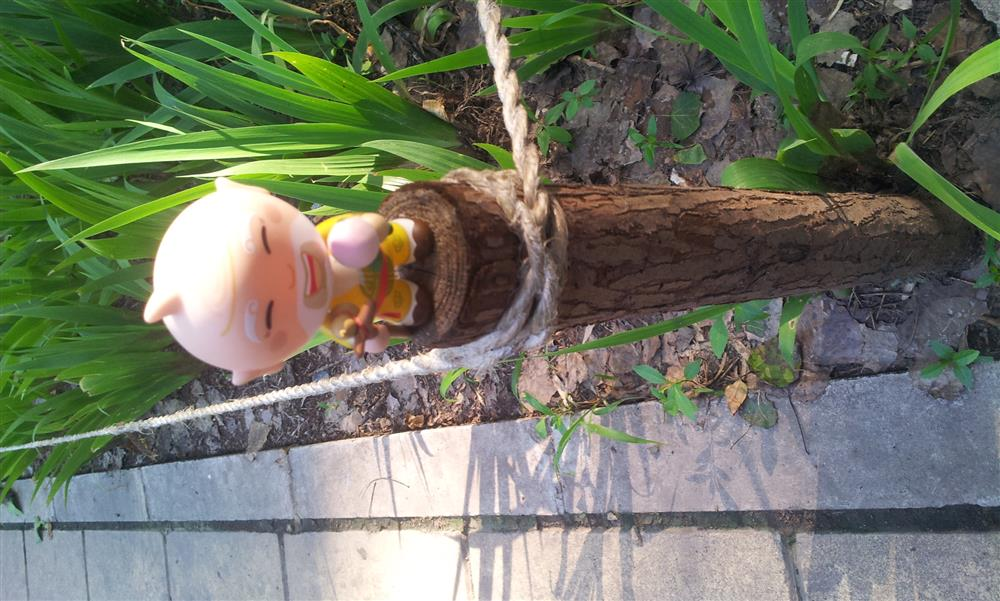toy_oldman: (129, 179, 443, 389)
